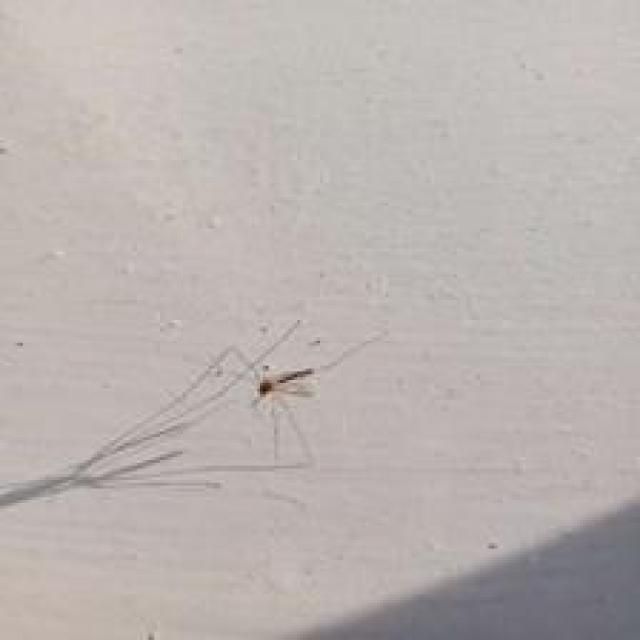Culex: (249, 363, 317, 466)
